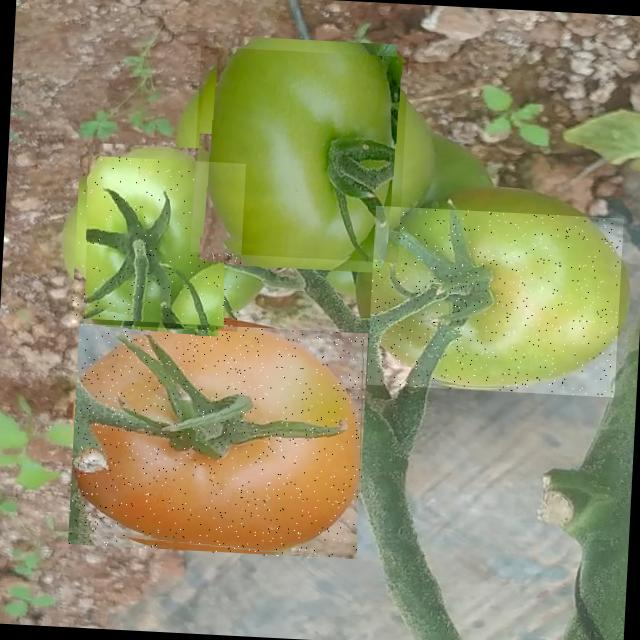Ripe Tomato: (68, 318, 369, 560)
Unripe Tomato: (366, 205, 624, 398), (190, 46, 408, 263), (72, 156, 246, 332)
